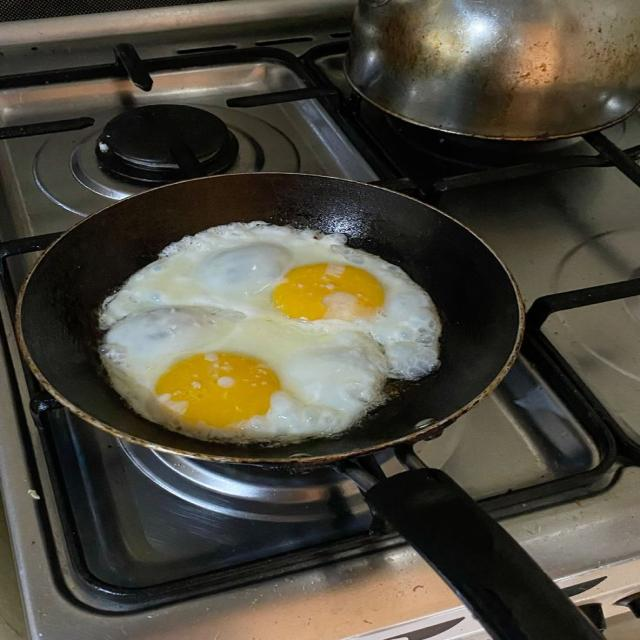fryed egg: (100, 222, 440, 379), (101, 306, 386, 443)
